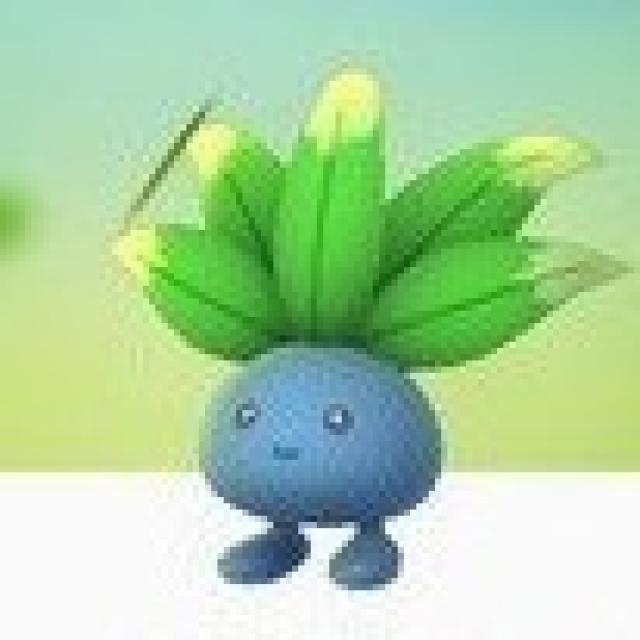Oddish: (169, 63, 523, 596)
